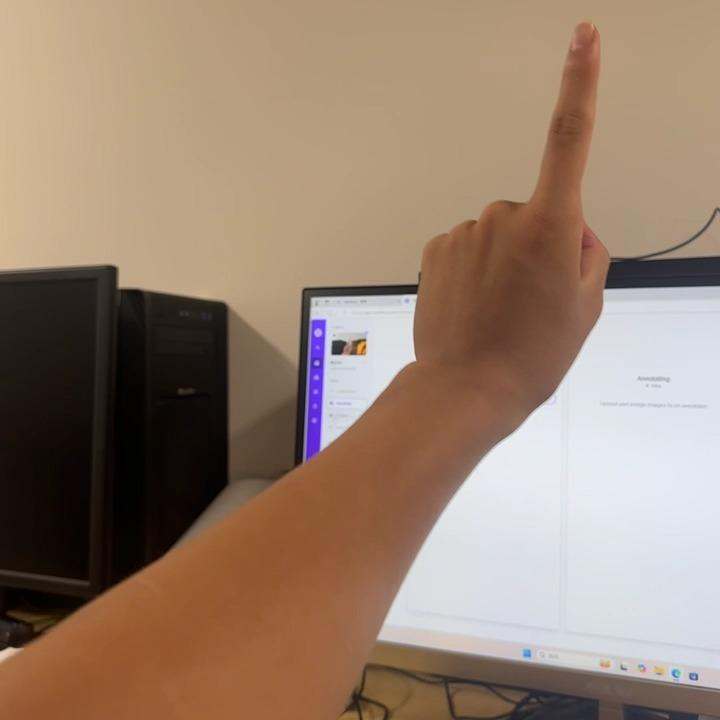without_gloves: (361, 0, 720, 445)
